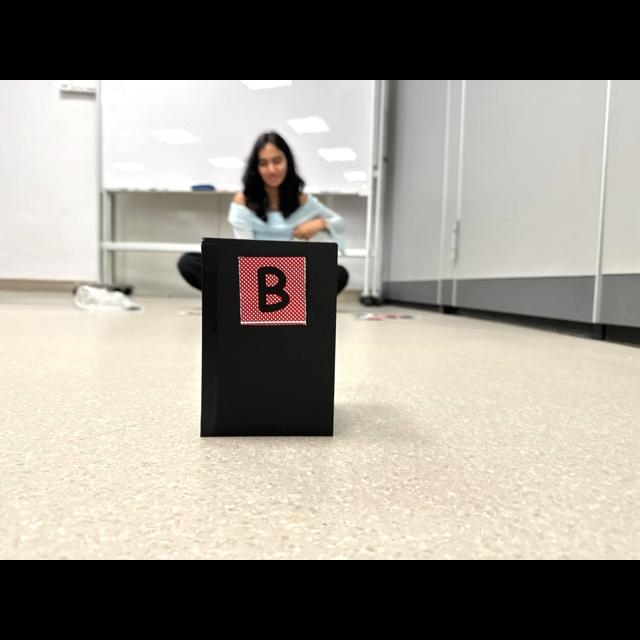B: (258, 266, 289, 311)
